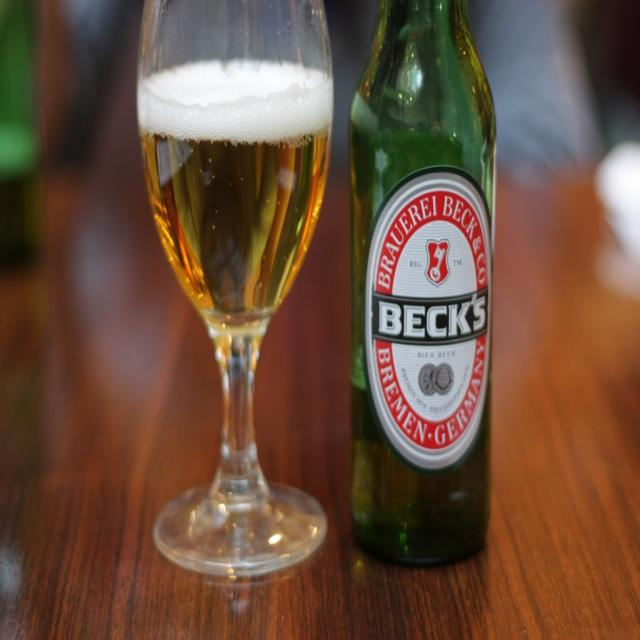becks: (365, 174, 494, 471)
